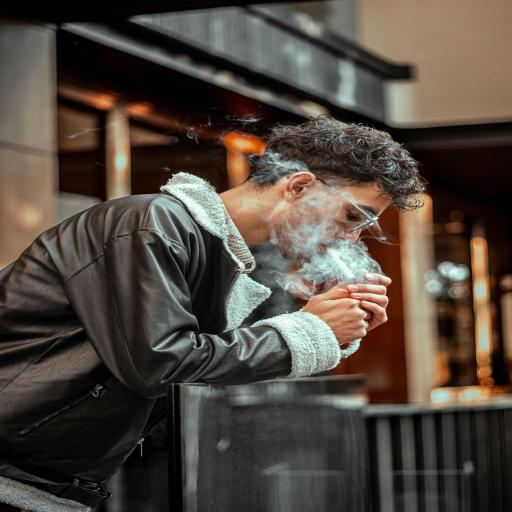terdeteksi merokok: (283, 210, 382, 304)
